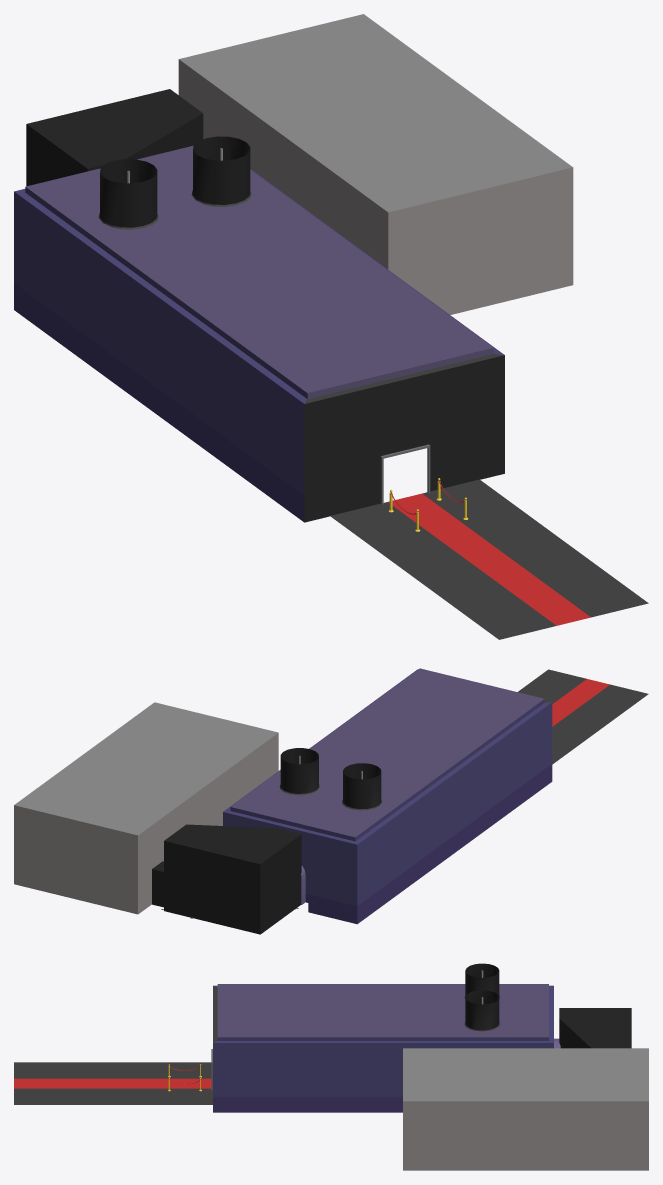
File: Disco Boss level.fbx
3 renders of one model, top to bottom at view 1: azimuth 30°, elevation 25°; view 2: azimuth 150°, elevation 25°; view 3: azimuth 270°, elevation 25°, orthographic. The views are drawn at different scales.
Parts seen in each view (by area): view 1: Disco boss level; view 2: Disco boss level; view 3: Disco boss level.
Boxes of the visible parts, bbox=[...] form: Disco boss level: bbox=[14, 14, 648, 639]; Disco boss level: bbox=[14, 668, 648, 934]; Disco boss level: bbox=[14, 963, 648, 1170].
Bounding box in the file's own units: 2775 × 1048 × 6035.
